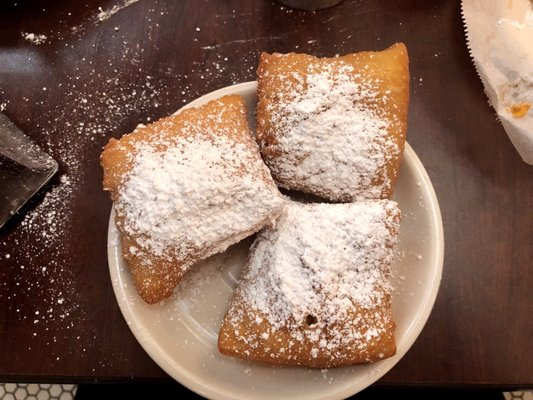soup: (102, 93, 287, 306), (217, 198, 403, 369)
